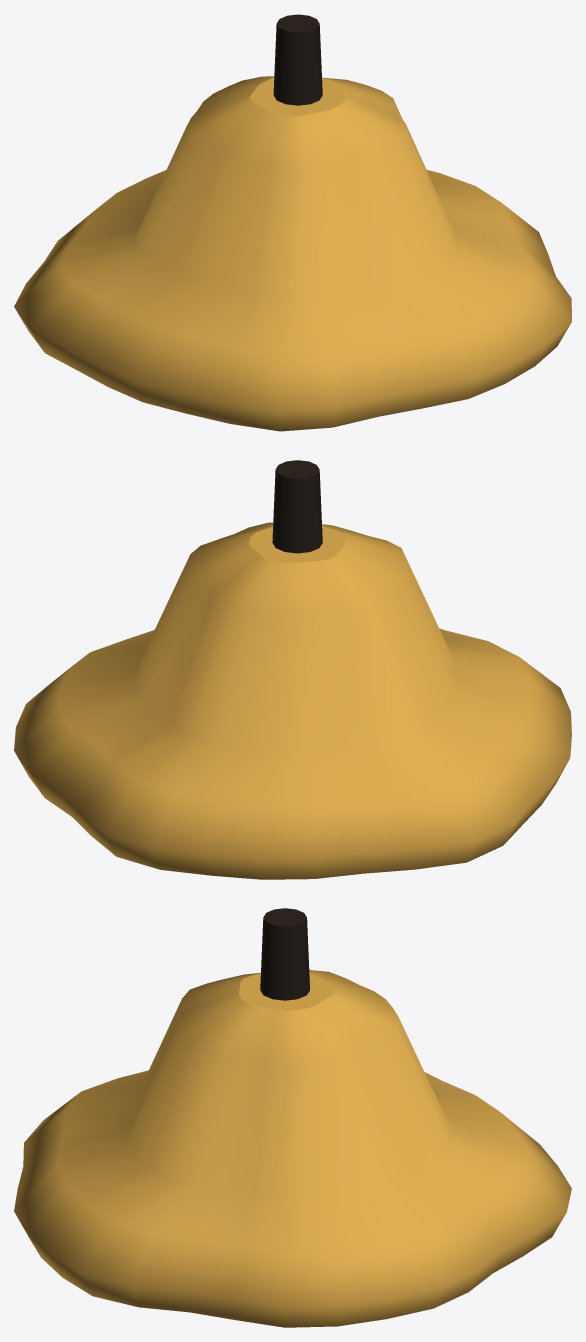
The model's file is candle_remnant.glb.
3 renders of one model, top to bottom at view 1: azimuth 30°, elevation 25°; view 2: azimuth 150°, elevation 25°; view 3: azimuth 270°, elevation 25°, orthographic. The views are drawn at different scales.
Visible parts, largest first — view 1: WaxResidue, WickRemnant; view 2: WaxResidue, WickRemnant; view 3: WaxResidue, WickRemnant.
Boxes of the visible parts, <box> form: WaxResidue: <box>14,76,571,431</box>; WickRemnant: <box>273,14,322,105</box>; WaxResidue: <box>14,522,571,879</box>; WickRemnant: <box>272,460,322,553</box>; WaxResidue: <box>14,970,571,1327</box>; WickRemnant: <box>260,908,309,1000</box>.
Size of the model in its own units: 0.00771 by 0.0045 by 0.00765.
